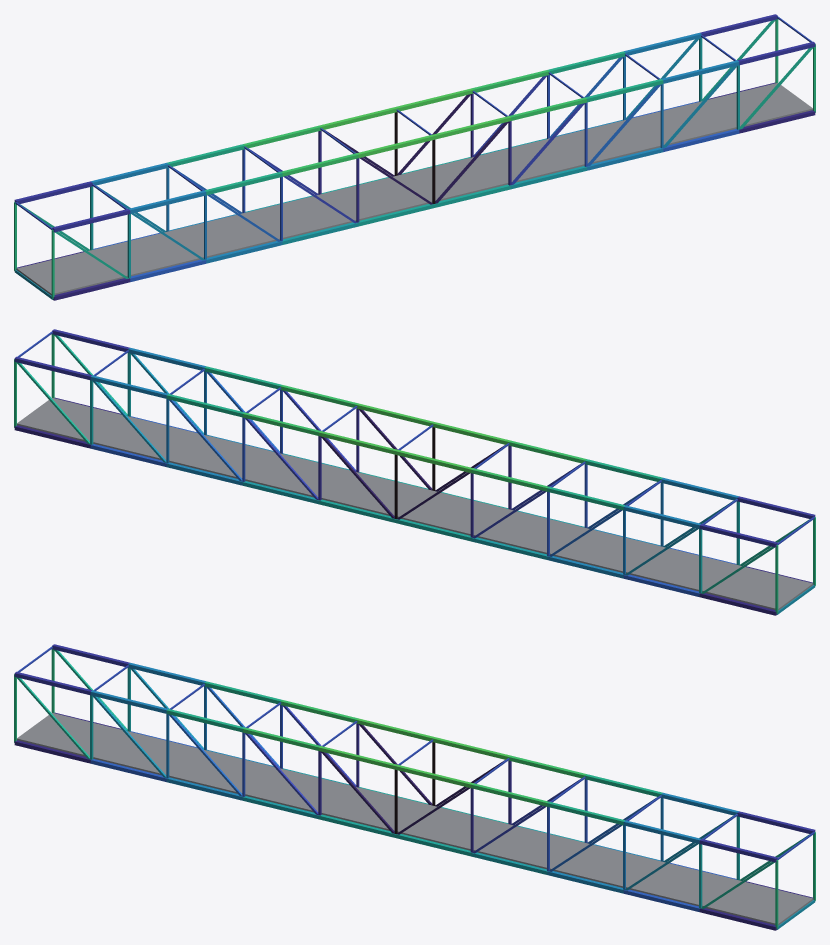
Rendered from 35_3_10_HEA240.glb.
3 renders of one model, top to bottom at view 1: azimuth 30°, elevation 25°; view 2: azimuth 150°, elevation 25°; view 3: azimuth 330°, elevation 25°, orthographic.
Size of the model in its own units: 35.09 by 3.16 by 3.16.
